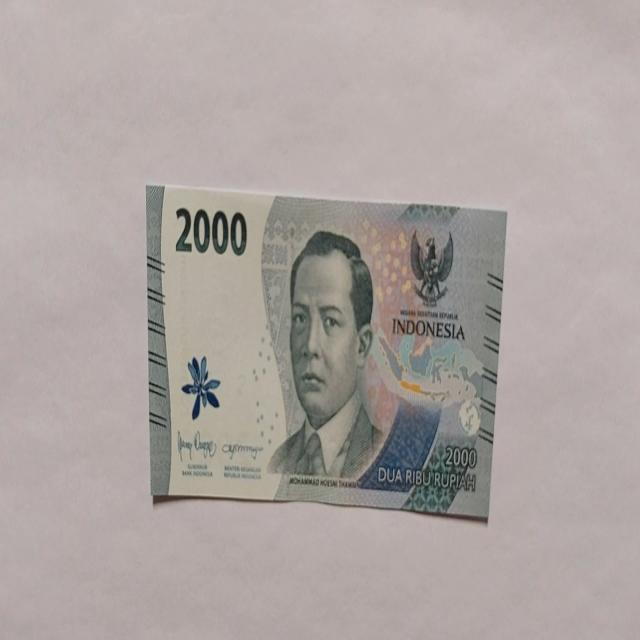dua ribu rupiah: (145, 182, 507, 518), (266, 228, 385, 482)
